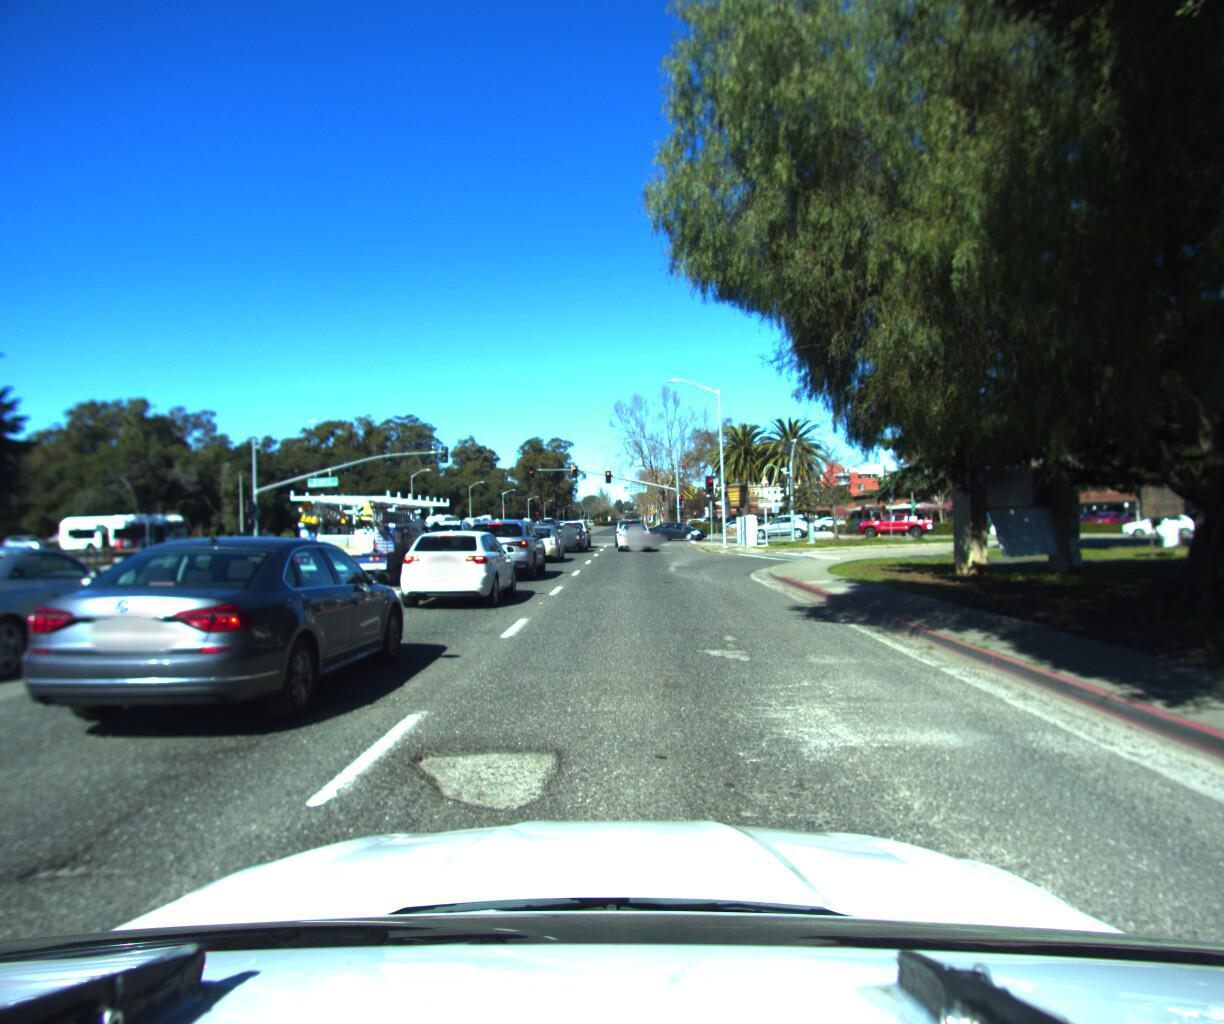bus: (58, 510, 200, 557)
car: (0, 531, 411, 764), (0, 539, 179, 709), (390, 523, 516, 612), (450, 516, 547, 586), (418, 518, 486, 564), (850, 507, 934, 536), (509, 522, 565, 564), (1109, 506, 1195, 532), (746, 509, 821, 537), (645, 520, 713, 542), (227, 530, 290, 551), (613, 519, 652, 552), (546, 523, 588, 553), (558, 516, 591, 548)
other_vehicle: (288, 482, 454, 595)
